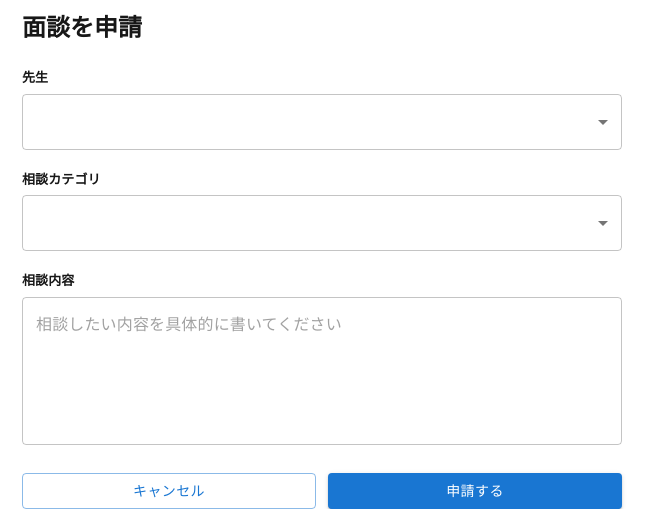
Test: CreateInterviewPresenter › 先生の選択肢に教員一覧、相談カテゴリの選択肢にカテゴリ一覧が表示される
This screenshot has width=645, height=526.
Press the mouse on the dropdown named "先生" below "先生": (322, 122) [22,94,622,150]
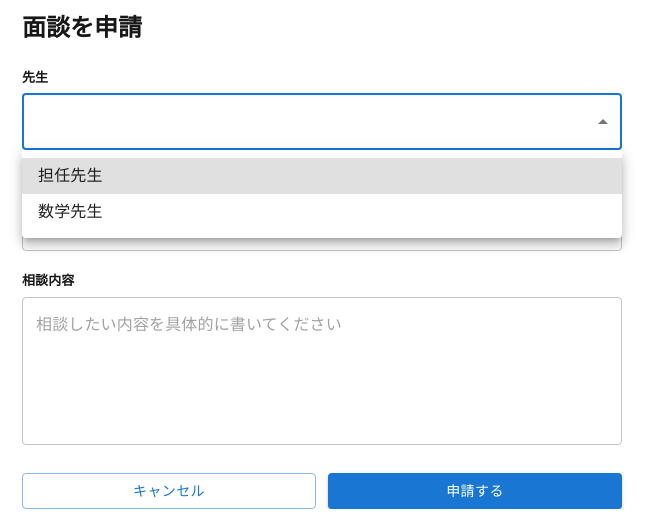
Expected: the options read "担任先生", "数学先生", in this order, [22,158,622,194]; [38,202,103,221]
